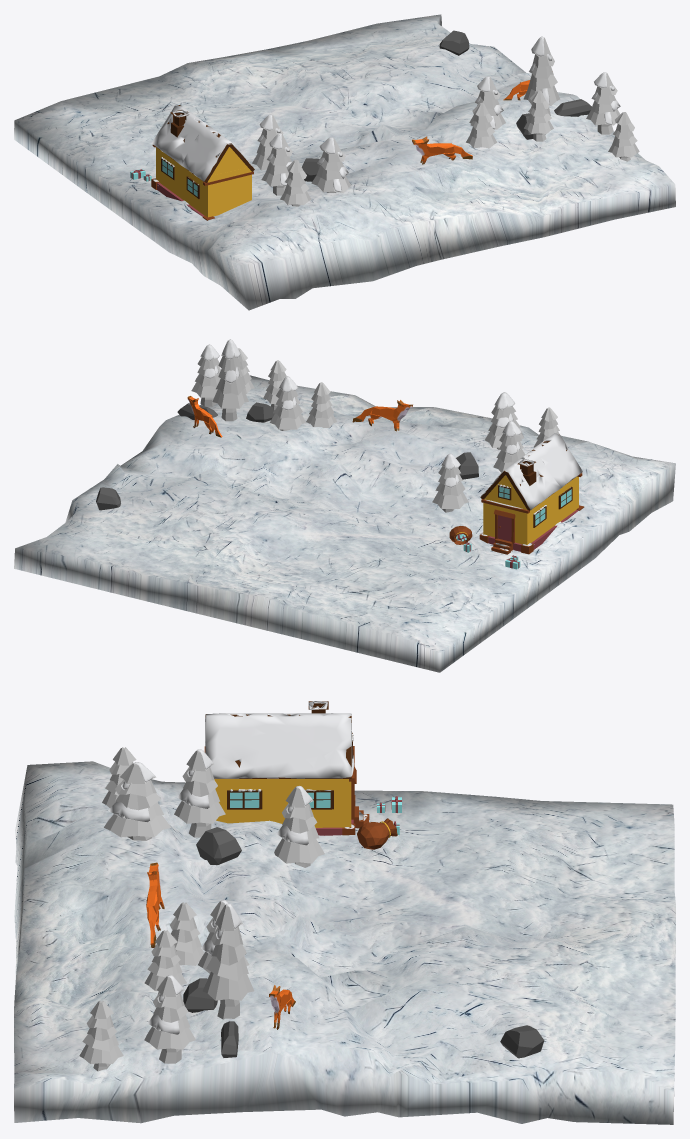
Rendered from ground.obj.
The picture shows the model from 3 angles, top to bottom: view 1: azimuth 30°, elevation 25°; view 2: azimuth 150°, elevation 25°; view 3: azimuth 270°, elevation 25°; orthographic projection. The views are drawn at different scales.
Parts seen in each view (by area): view 1: Plane, Cube.028, SnowBall.015, Plane.007, Cube.025, Cube.022, Cube.035; view 2: Plane, SnowBall.015, Cube.028, Plane.007, Cube.035, Plane.006; view 3: Plane, SnowBall.015, Cube.028, Cube.024, Cube.025, Cylinder.038, Cylinder.020, Plane.007, Cylinder.008, Sack, Cube.021, Cylinder.050 (+3 smaller).
Boxes of the visible parts, <box> form: Plane: <box>14,14,675,310</box>; Cube.028: <box>156,147,251,217</box>; SnowBall.015: <box>151,105,252,181</box>; Plane.007: <box>412,136,472,164</box>; Cube.025: <box>439,30,469,55</box>; Cube.022: <box>554,99,591,116</box>; Cube.035: <box>211,147,247,175</box>; Plane: <box>14,375,675,672</box>; SnowBall.015: <box>480,433,582,509</box>; Cube.028: <box>483,476,578,544</box>; Plane.007: <box>352,400,412,431</box>; Cube.035: <box>484,475,527,509</box>; Plane.006: <box>187,396,222,437</box>; Plane: <box>14,761,675,1124</box>; SnowBall.015: <box>205,713,352,778</box>; Cube.028: <box>214,779,351,827</box>; Cube.024: <box>196,827,241,865</box>; Cube.025: <box>500,1025,544,1058</box>; Cylinder.038: <box>104,814,171,837</box>; Cylinder.020: <box>203,972,254,1000</box>; Plane.007: <box>146,862,164,947</box>; Cylinder.008: <box>274,838,324,863</box>; Sack: <box>357,818,397,849</box>; Cube.021: <box>183,978,217,1012</box>; Cylinder.050: <box>144,1026,195,1049</box>.
Size of what is drawn, in the model's own units: 67.34 by 19.05 by 62.98.
